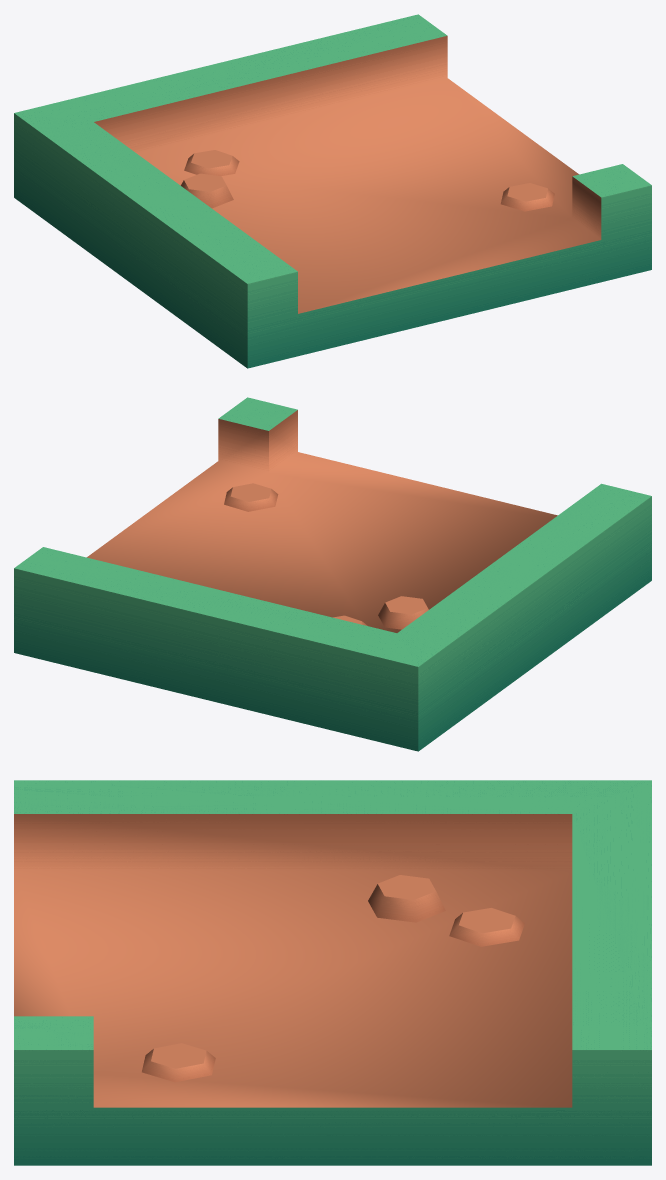
File: tower-defense-kit--tile-corner-square.glb
3 renders of one model, top to bottom at view 1: azimuth 30°, elevation 25°; view 2: azimuth 150°, elevation 25°; view 3: azimuth 270°, elevation 25°, orthographic. The views are drawn at different scales.
Parts seen in each view (by area): view 1: tile-corner-square; view 2: tile-corner-square; view 3: tile-corner-square.
Boxes of the visible parts, x1=… form: tile-corner-square: x1=14, y1=14, x2=651, y2=368; tile-corner-square: x1=14, y1=397, x2=651, y2=751; tile-corner-square: x1=14, y1=780, x2=651, y2=1165.
Size of the model in its own units: 1 by 0.2 by 1.
1 material, 1 textured.
